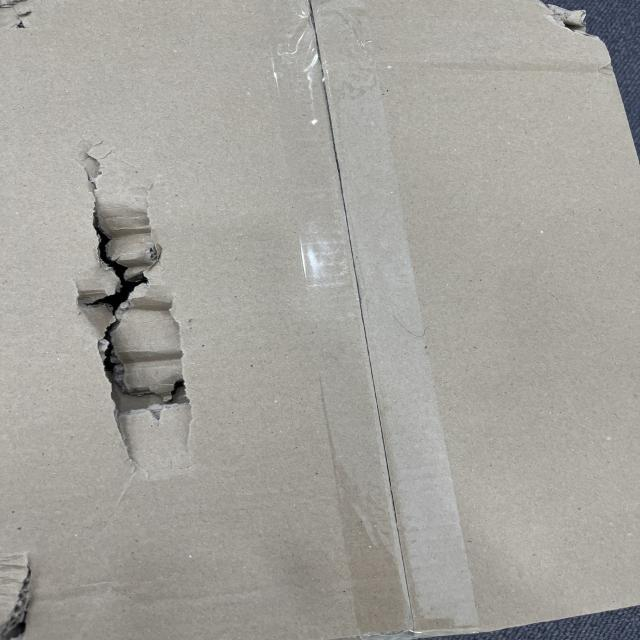hole: (84, 191, 196, 417)
